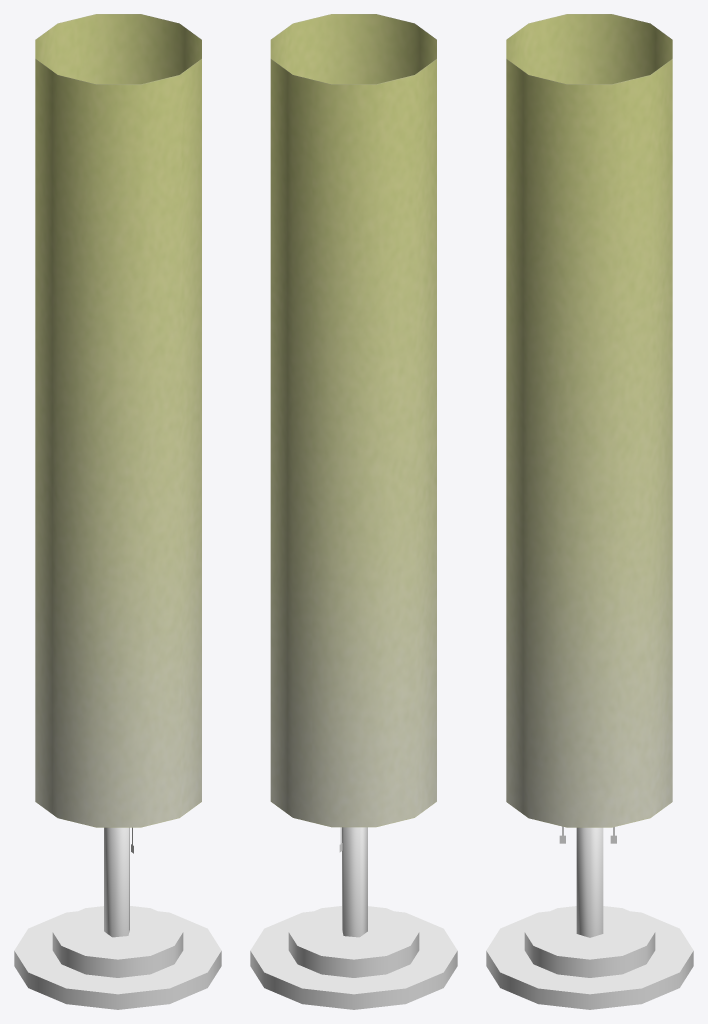
File: Big_Light_01.FBX
The picture shows the model from 3 angles, left to right: view 1: azimuth 30°, elevation 25°; view 2: azimuth 150°, elevation 25°; view 3: azimuth 270°, elevation 25°; orthographic projection.
Visible parts, largest first — view 1: Light, Big_Light_01; view 2: Light, Big_Light_01; view 3: Light, Big_Light_01.
Part boxes in pixels (x1,y1,x2,y2): Light: (35, 14, 201, 827); Big_Light_01: (14, 827, 221, 1009); Light: (270, 14, 436, 827); Big_Light_01: (250, 827, 457, 1009); Light: (506, 14, 672, 827); Big_Light_01: (486, 826, 693, 1009).
Size of the model in its own units: 0.5368 by 2.62 by 0.5368.
